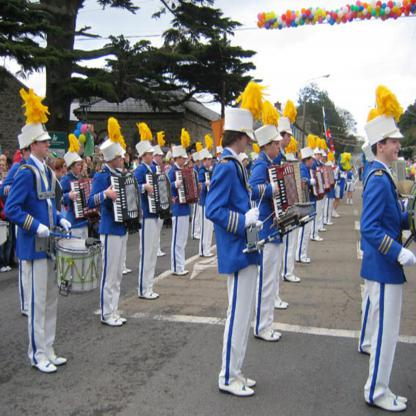face: (385, 139, 401, 161), (38, 140, 51, 157), (241, 132, 251, 153), (270, 140, 281, 159), (283, 132, 291, 149), (146, 152, 155, 165), (74, 161, 82, 175), (308, 157, 314, 169), (207, 158, 213, 169), (2, 161, 7, 174), (118, 155, 123, 168), (157, 154, 163, 164), (180, 158, 186, 167), (88, 157, 93, 167), (63, 163, 68, 172), (84, 164, 88, 175), (322, 156, 328, 163), (125, 157, 130, 165), (317, 154, 322, 161), (94, 133, 98, 139), (199, 161, 202, 168), (172, 161, 174, 165)
